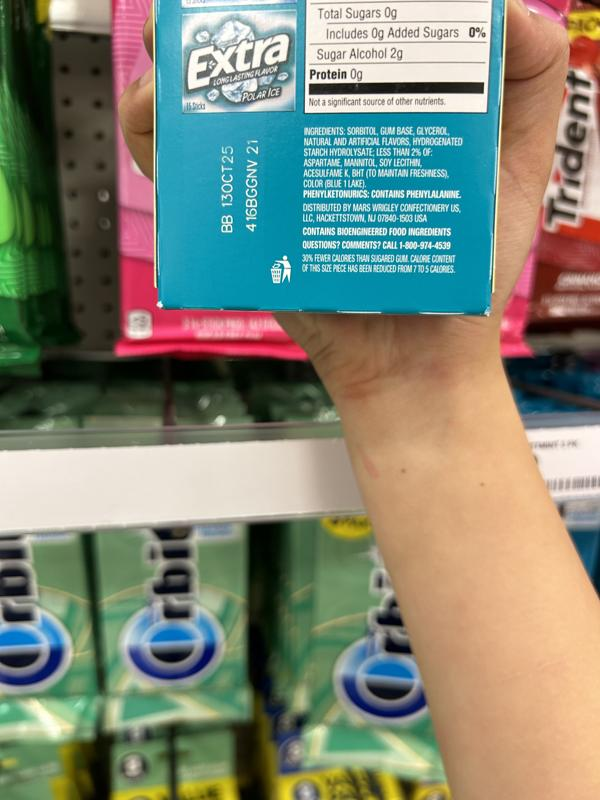ingredients: (302, 125, 464, 189)
